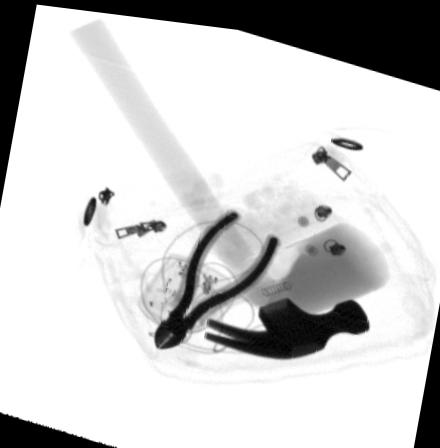Hammer: (66, 14, 371, 354)
Pliers: (154, 203, 283, 344)
